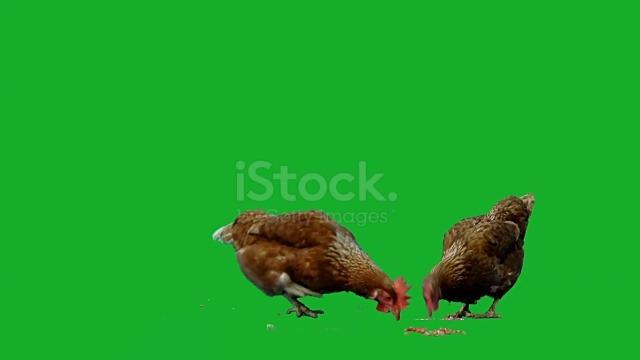Normal: (218, 207, 410, 325), (422, 194, 545, 318)
